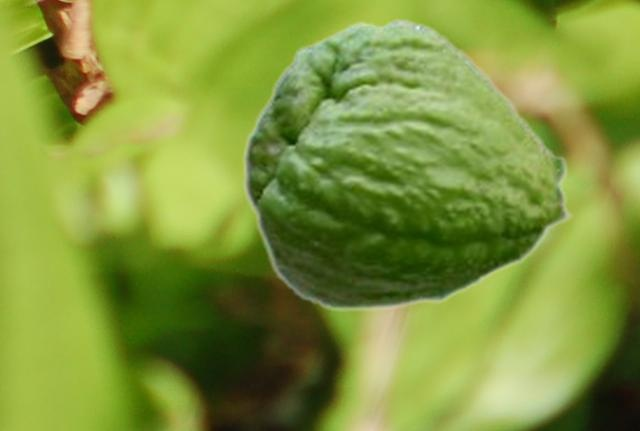sayote: (242, 17, 574, 312)
